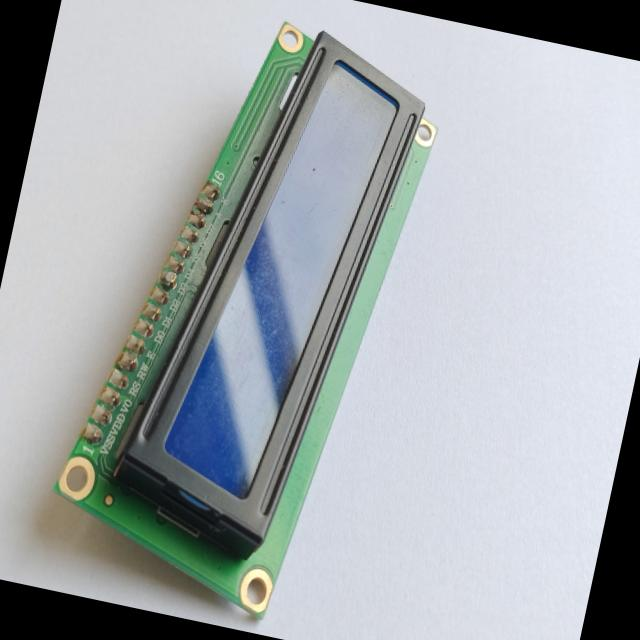lcd: (34, 0, 453, 635)
